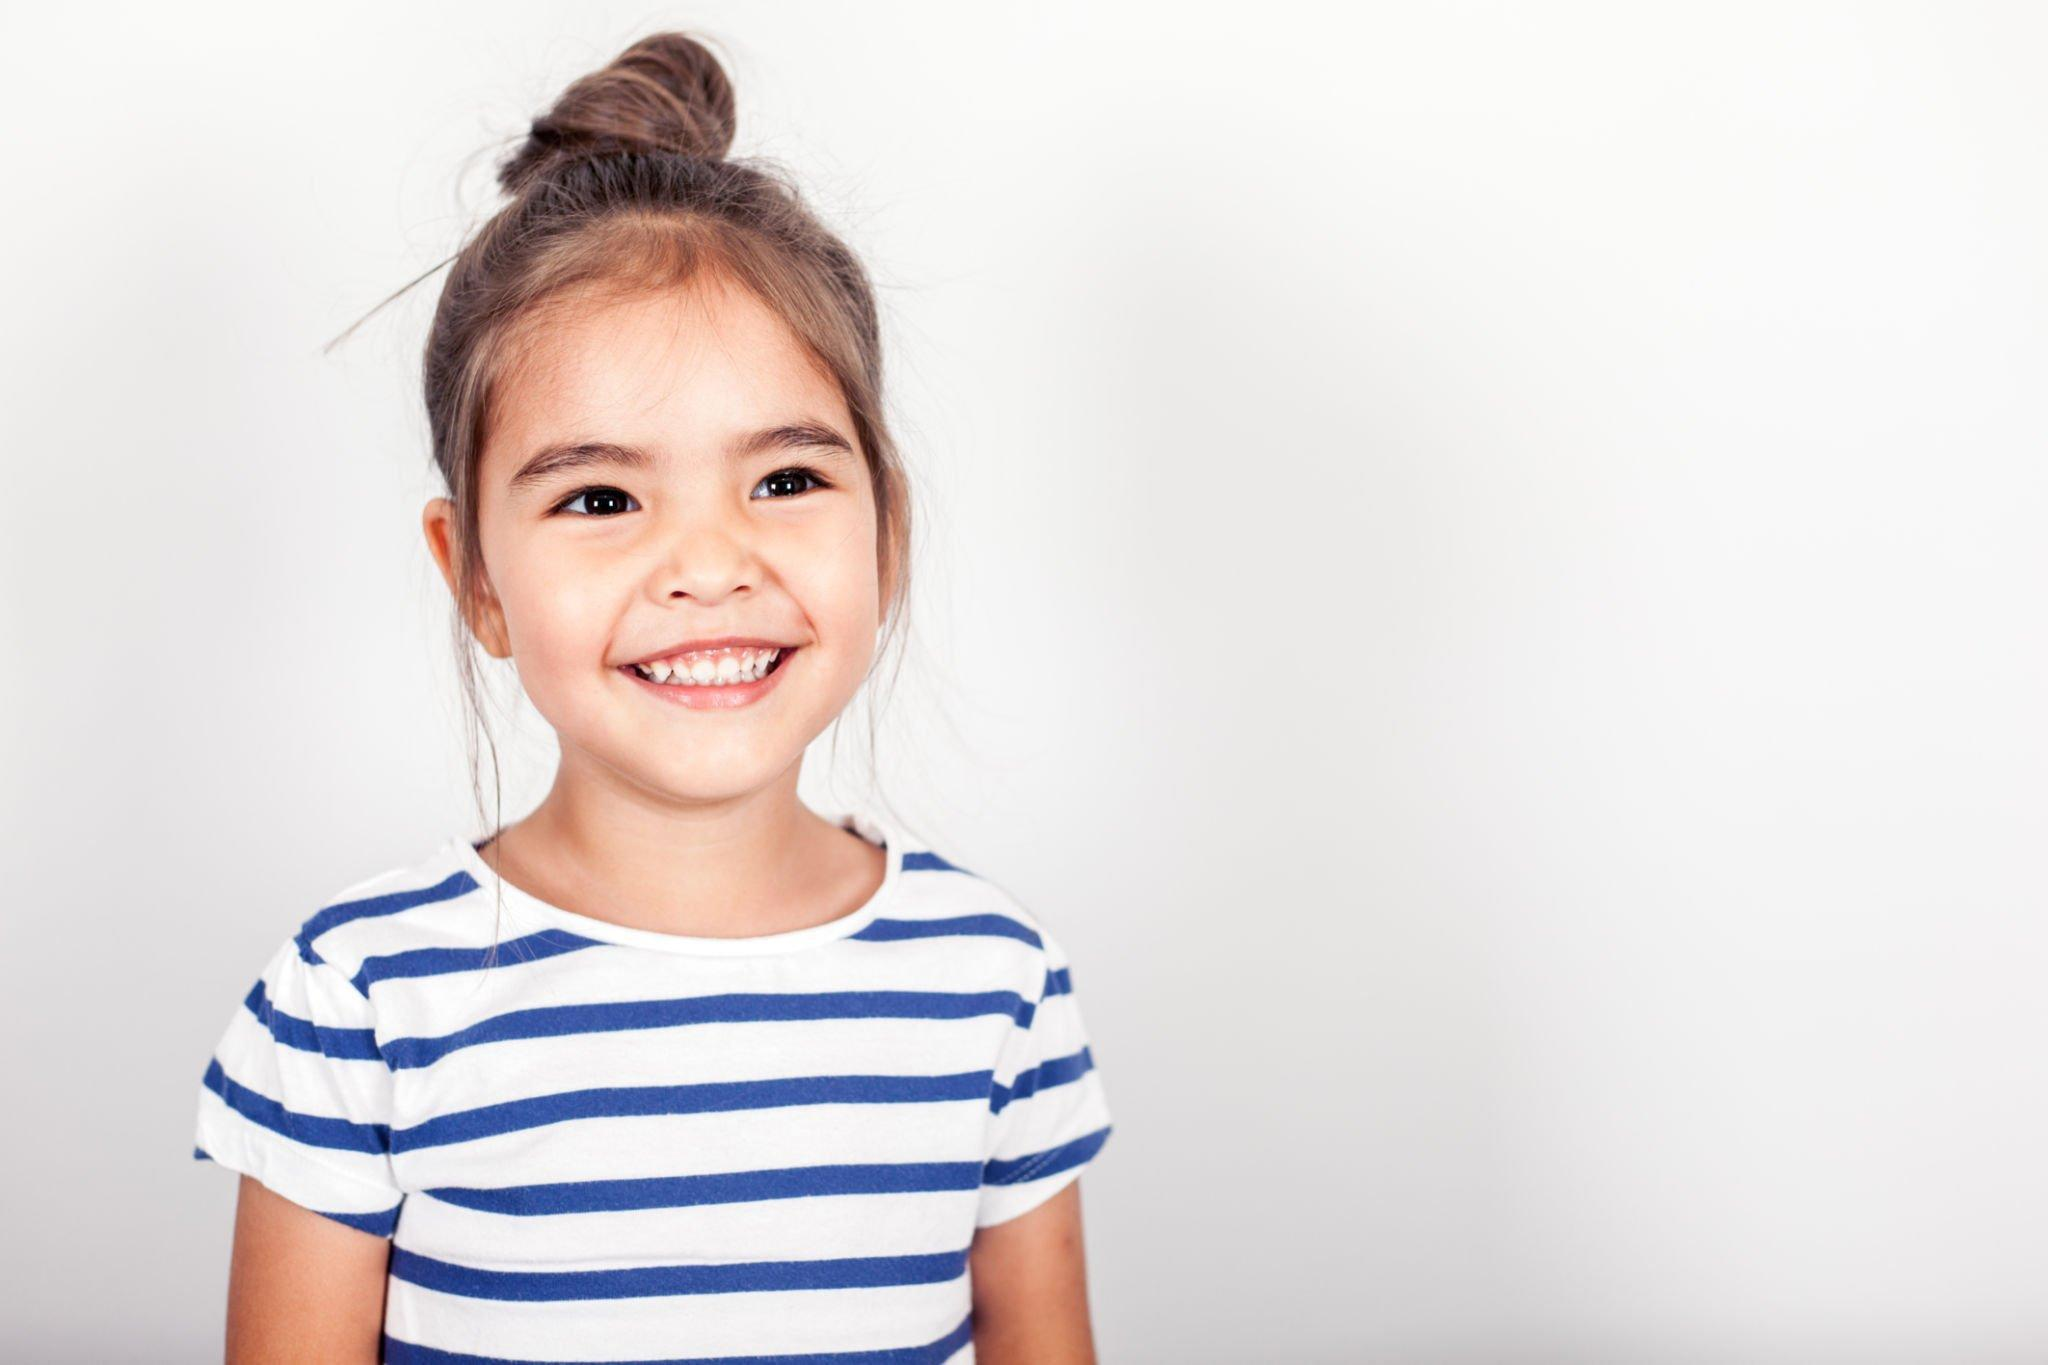Healthy: (372, 181, 990, 849)
